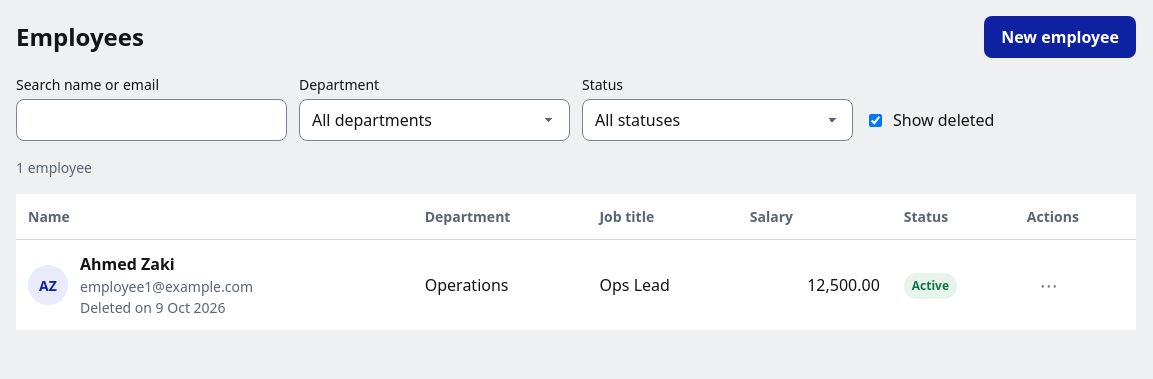
Test case: Employee delete - row menu (edge case 1) › keeps only Restore on deleted rows
The image size is (1153, 379).
Expected: the table is shown, [16,194,1136,330]
Click the button named "Actions for Ahmed Zaki" at (1049, 285), box [1027,266,1071,304]
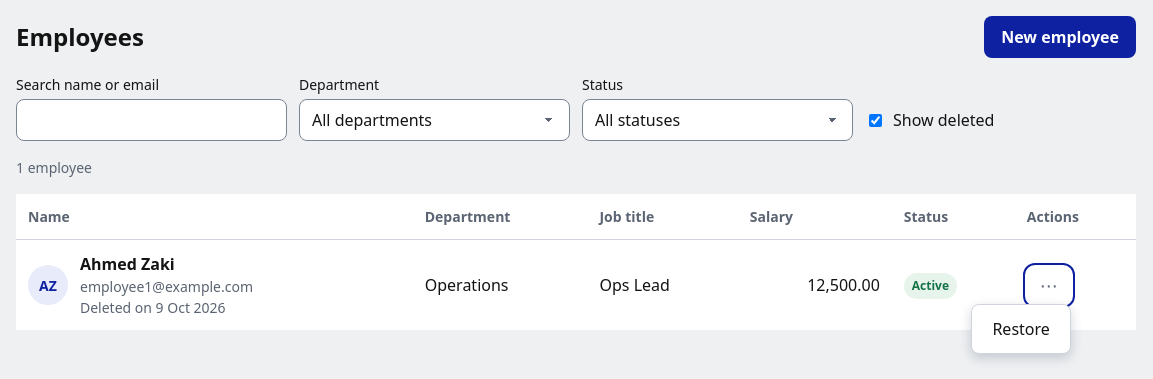
Expected: the menu items read "Restore", in this order, [976,308,1066,348]
